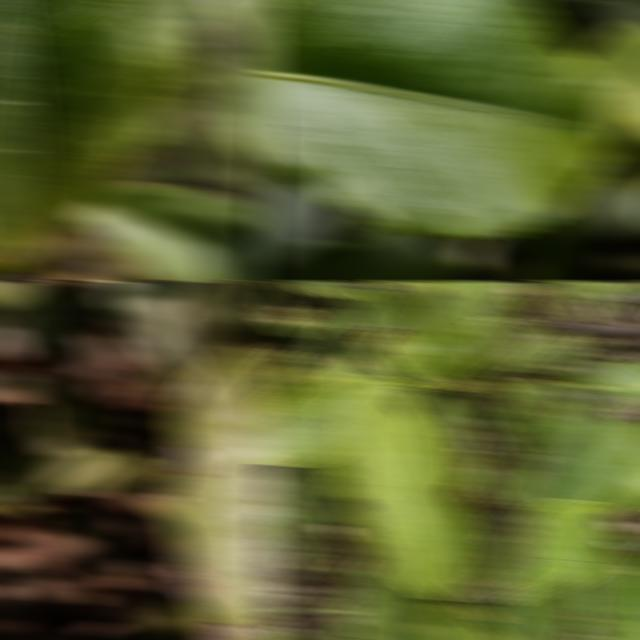Leaf: (260, 0, 615, 238), (0, 0, 162, 269), (158, 347, 276, 640), (346, 366, 472, 600), (91, 280, 273, 390), (71, 180, 258, 282), (206, 0, 276, 220), (523, 384, 622, 521), (495, 499, 612, 603), (260, 230, 472, 282), (0, 447, 158, 516), (572, 19, 640, 146), (260, 376, 351, 466), (420, 280, 520, 361), (22, 361, 103, 459), (339, 547, 424, 640), (260, 176, 341, 267), (269, 464, 335, 571), (443, 317, 540, 382), (410, 394, 473, 492), (579, 546, 640, 640), (341, 290, 431, 353), (187, 214, 264, 282), (582, 420, 640, 503), (402, 320, 474, 385), (516, 577, 586, 640), (578, 168, 640, 239), (525, 209, 585, 282), (514, 377, 566, 461), (582, 452, 640, 513), (361, 326, 423, 380), (454, 518, 498, 583), (263, 306, 352, 338), (478, 446, 526, 504), (565, 280, 627, 322), (298, 327, 348, 377), (528, 327, 583, 365), (293, 280, 367, 305), (592, 361, 640, 398), (503, 474, 547, 511), (377, 280, 437, 307), (498, 598, 536, 640), (483, 377, 519, 416), (365, 375, 413, 403), (547, 280, 581, 302)
